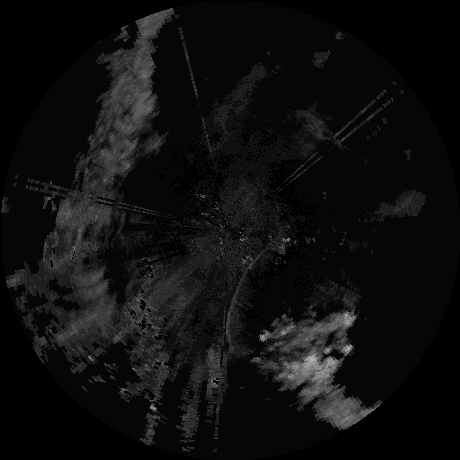frontgust: (225, 251, 263, 349)
